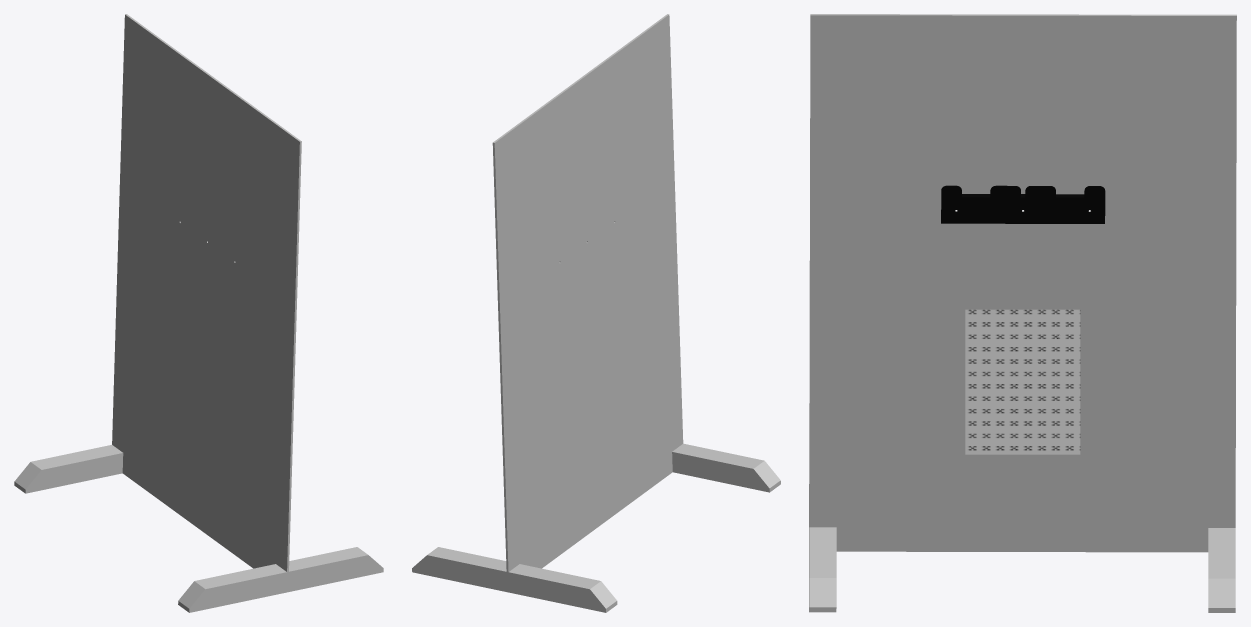
The picture shows the model from 3 angles, left to right: view 1: azimuth 30°, elevation 25°; view 2: azimuth 150°, elevation 25°; view 3: azimuth 270°, elevation 25°; orthographic projection. The views are drawn at different scales.
Visible parts, largest first — view 1: polished pine 2d; view 2: polished pine 2d; view 3: polished pine 2d, color : tag_bundle1-page-001 - 1 : april_tag-1 Body-0 Face-4, cast stainless steel.
Part boxes in pixels (box(x1,y1,x2,y2)): polished pine 2d: box(14, 14, 383, 612); polished pine 2d: box(412, 14, 780, 612); polished pine 2d: box(809, 14, 1236, 612); color : tag_bundle1-page-001 - 1 : april_tag-1 Body-0 Face-4: box(965, 309, 1080, 454); cast stainless steel: box(941, 185, 1105, 223).
Bounding box in the file's own units: 0.5001 × 0.7823 × 1.11.
